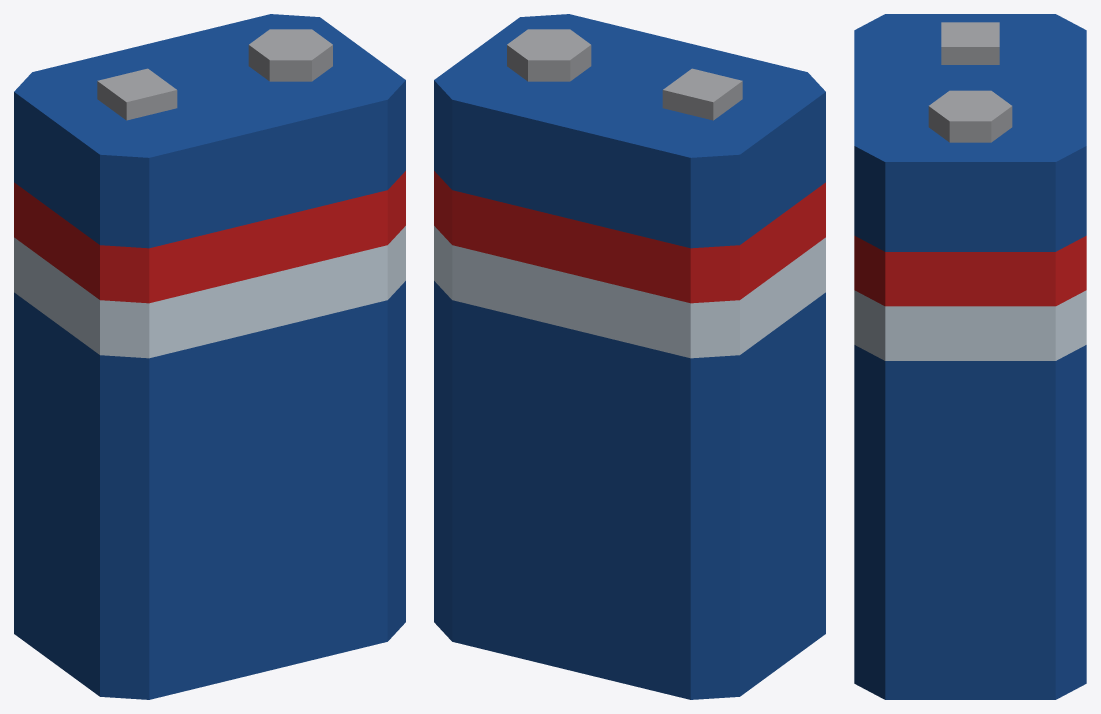
The model's file is Battery_Fat.fbx.
3 renders of one model, left to right at view 1: azimuth 30°, elevation 25°; view 2: azimuth 150°, elevation 25°; view 3: azimuth 270°, elevation 25°, orthographic.
Visible parts, largest first — view 1: Batterie_Fat; view 2: Batterie_Fat; view 3: Batterie_Fat.
Part boxes in pixels (x1,y1,x2,y2): Batterie_Fat: (14, 14, 405, 699); Batterie_Fat: (434, 14, 825, 699); Batterie_Fat: (854, 14, 1086, 699).
Size of the model in its own units: 2.6 by 4.57 by 1.72.
